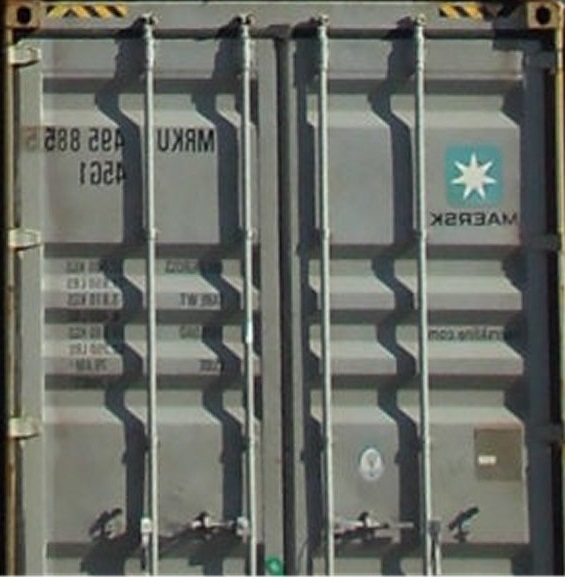container_door: (7, 3, 549, 573)
